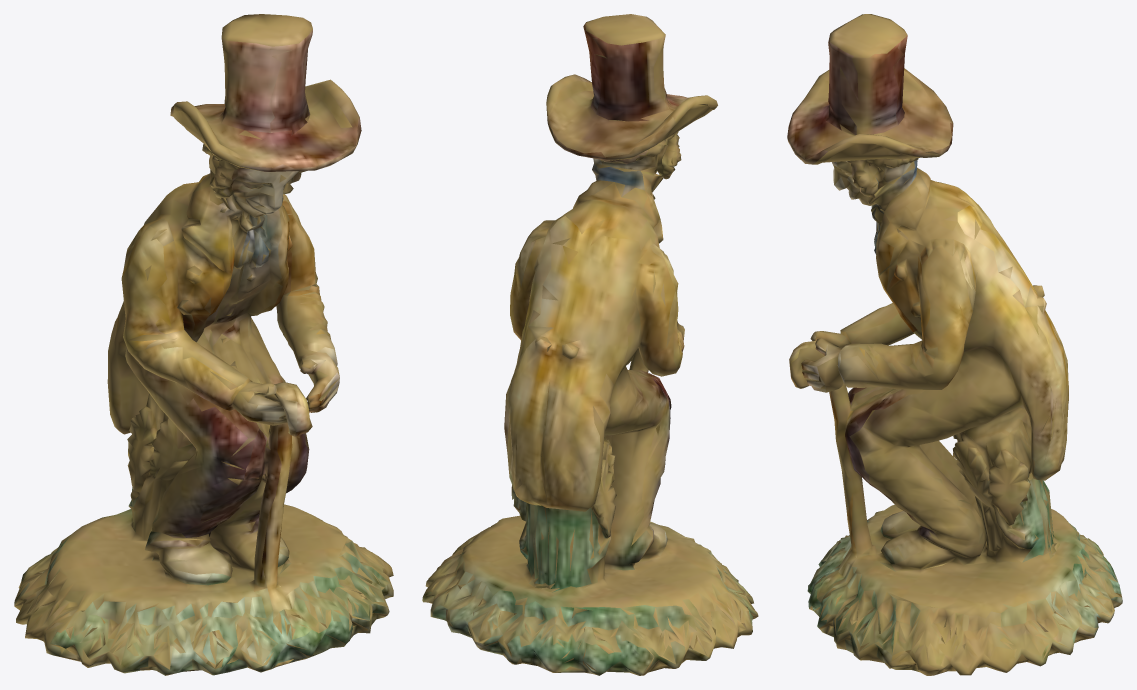
The model's file is candlestick-20177428-1.glb.
3 renders of one model, left to right at view 1: azimuth 30°, elevation 25°; view 2: azimuth 150°, elevation 25°; view 3: azimuth 270°, elevation 25°, orthographic. The views are drawn at different scales.
Parts seen in each view (by area): view 1: Mesh; view 2: Mesh; view 3: Mesh.
Part boxes in pixels (<box>): Mesh: <box>14,14,393,675</box>; Mesh: <box>422,14,758,675</box>; Mesh: <box>787,14,1122,675</box>.
Bounding box in the file's own units: 0.12 × 0.2101 × 0.11.
Materials: 1 (1 with a texture image).
